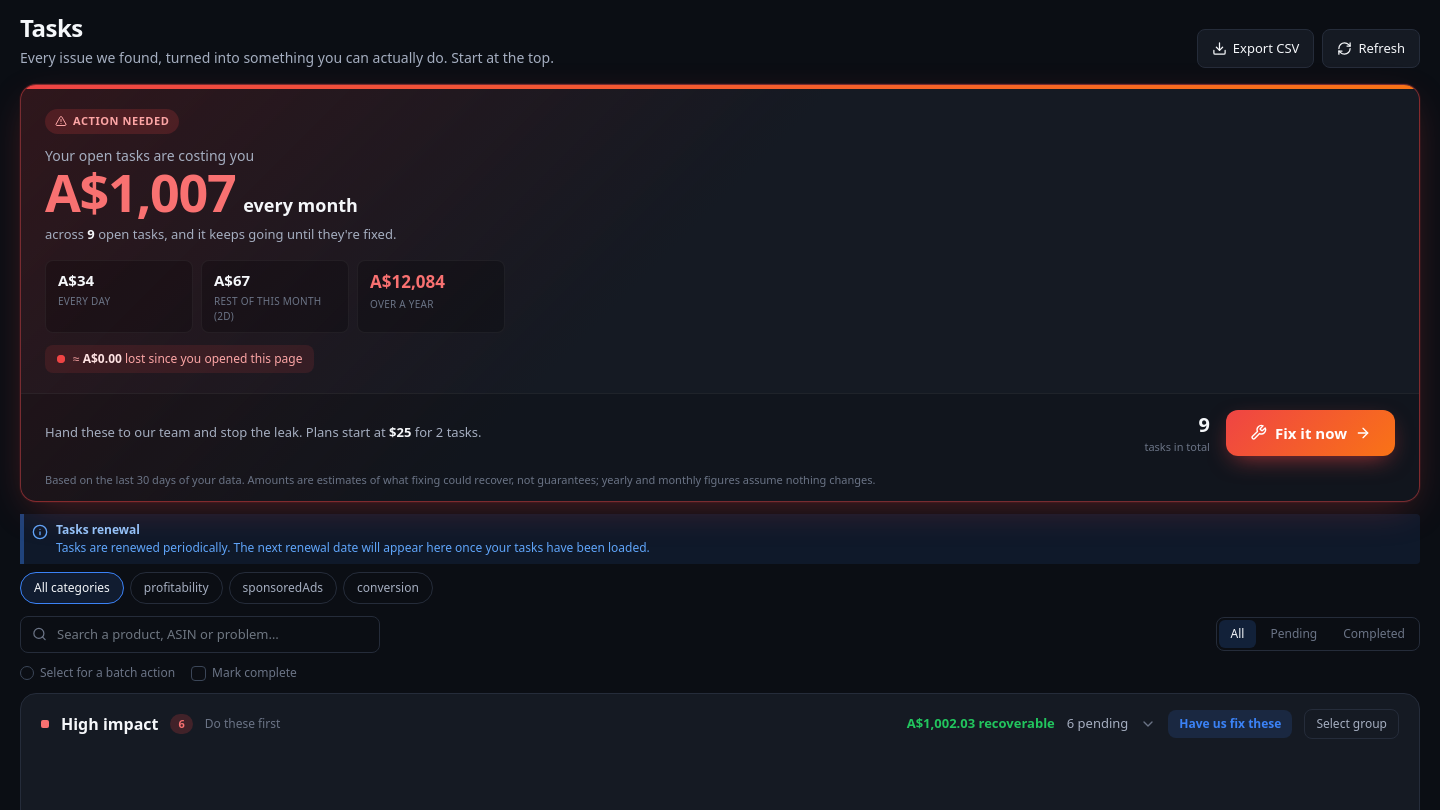
Test case: Tasks page - urgency card › offers "Have us fix these" on the High impact bucket
Click the button "Have us fix these" at (1230, 724), box [1168, 710, 1292, 738]
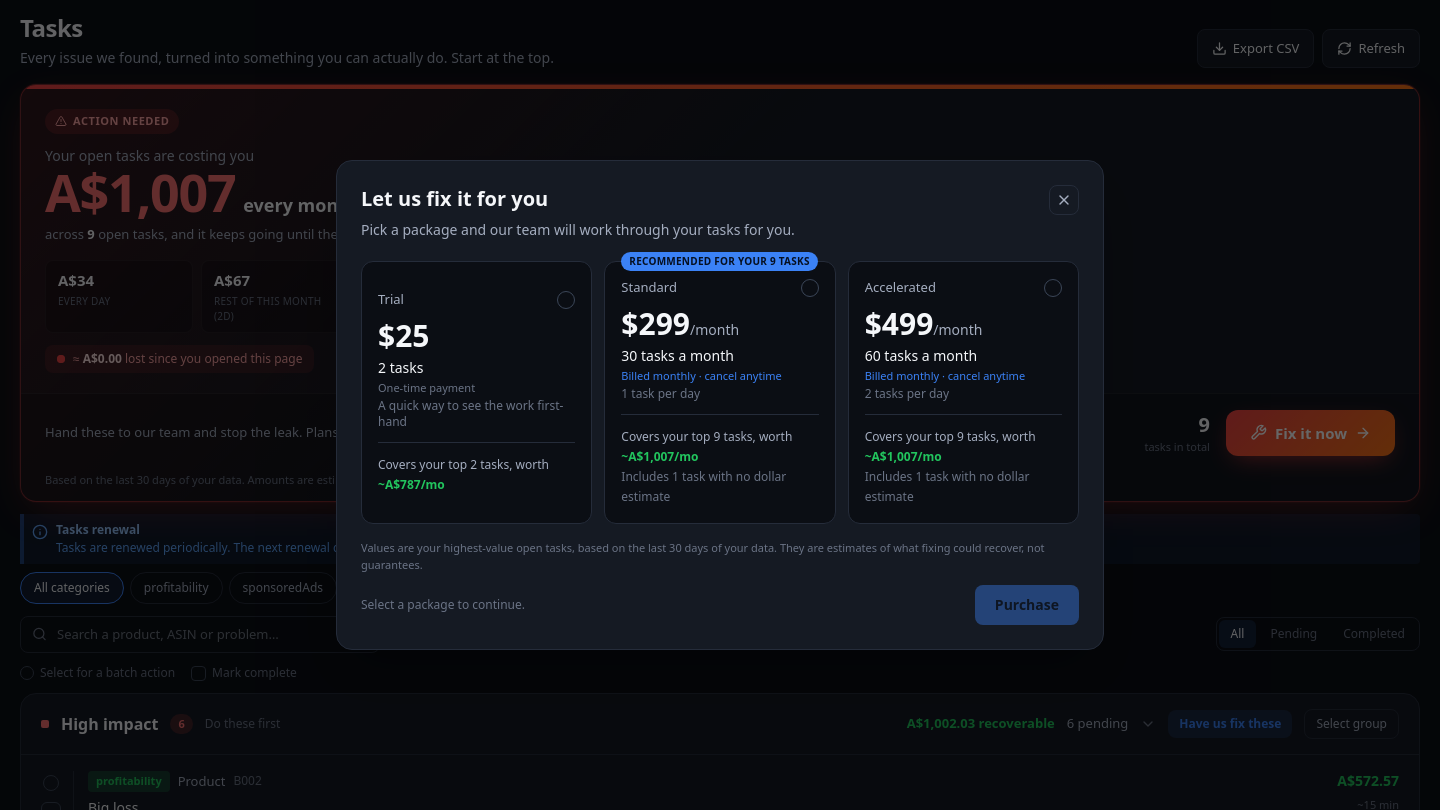
expect the dialog is shown: met
